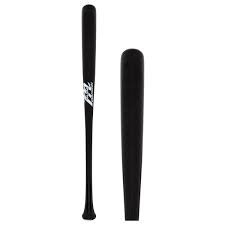baseball bat: (118, 47, 145, 219), (80, 4, 98, 220)
